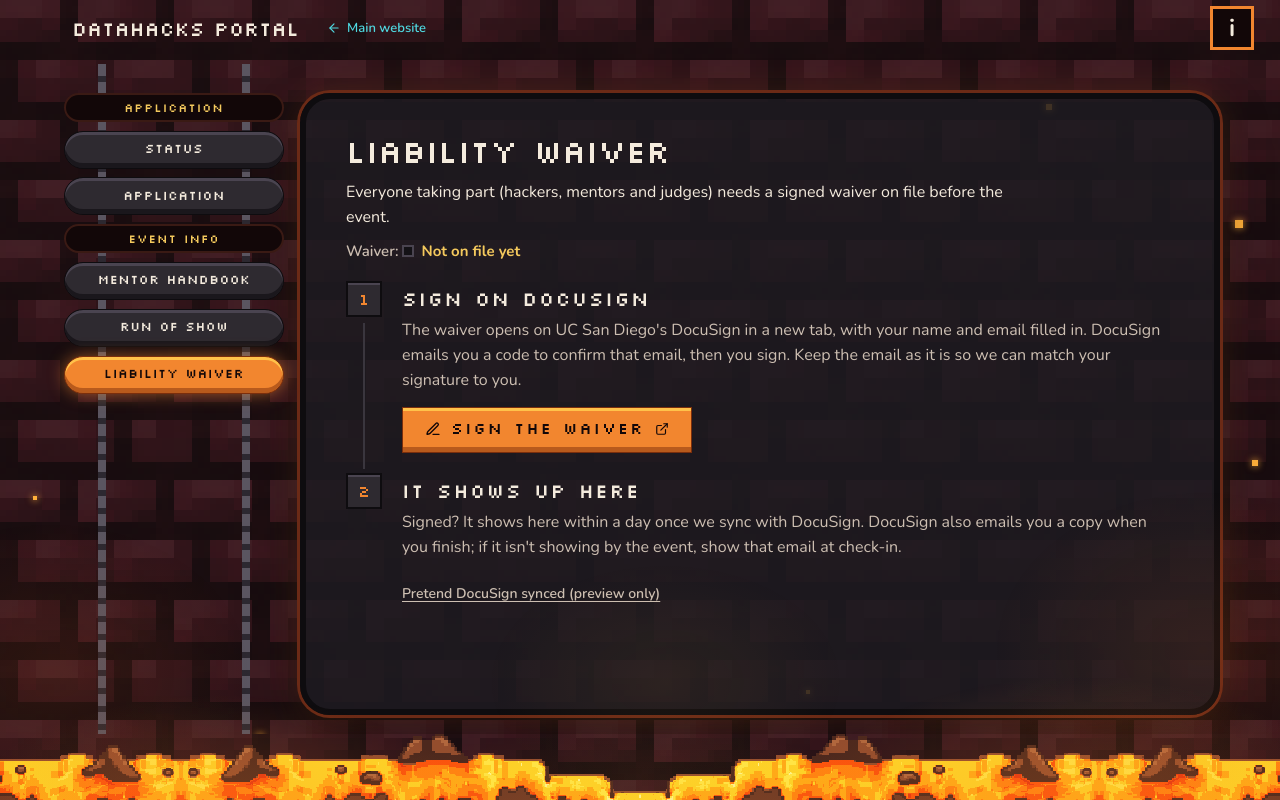
PowerForm waiver page › shows Signed from the database (preview: a pretend sync), and the dashboard agrees
Click the button "Pretend DocuSign synced (preview only)".
click(531, 594)  # box [402,584,660,604]
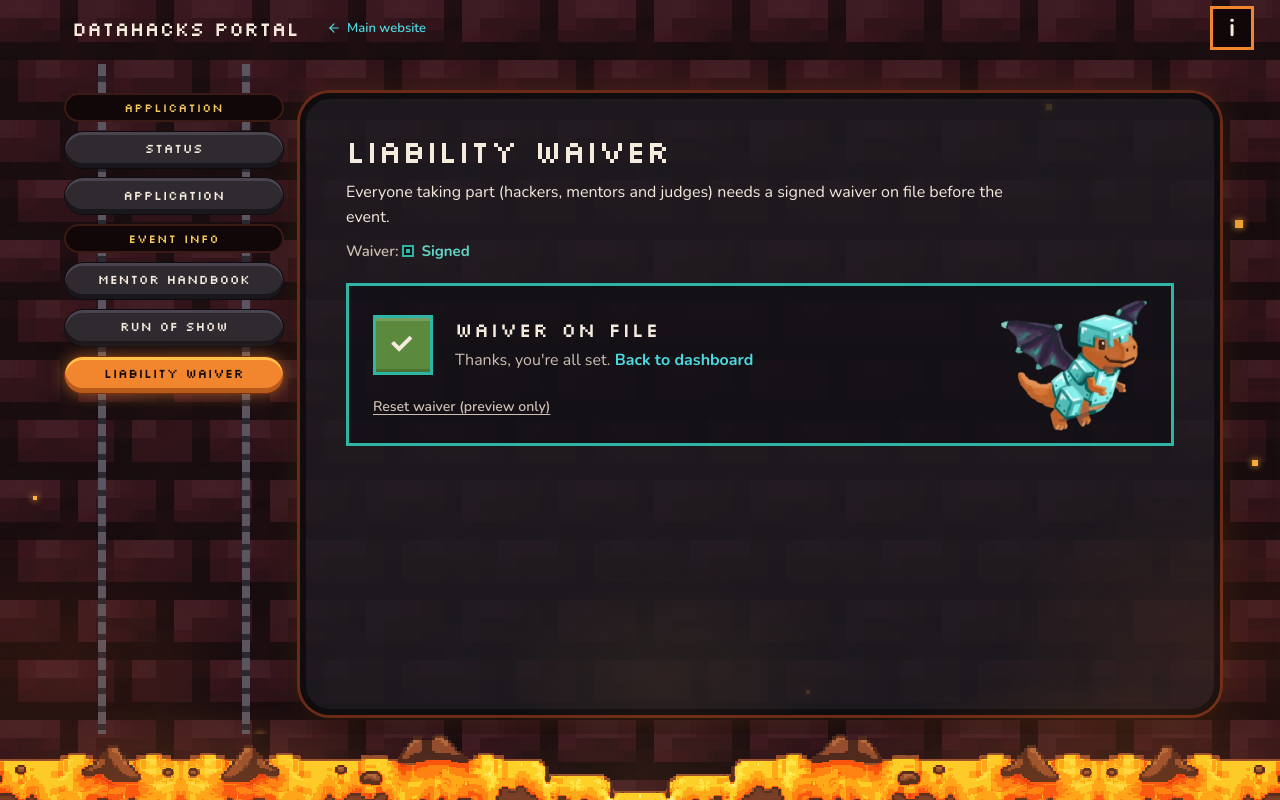
Now the heading "Waiver on file" is shown, box [455,316,660,342]
Now the text "Signed" is shown, box [402,241,470,261]
Click the link "Back to dashboard".
click(684, 360)  # box [615,350,753,372]
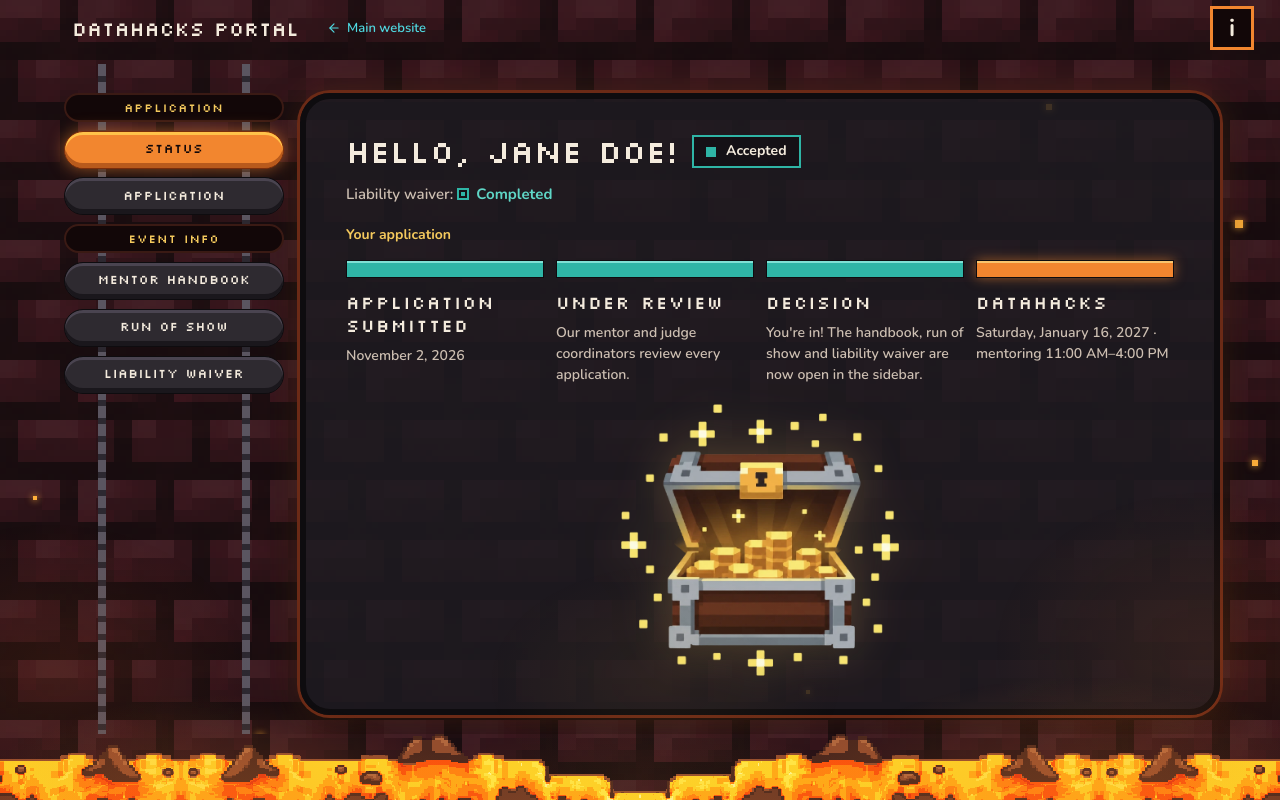
Now the text "Completed" is shown, box [457,184,552,204]
